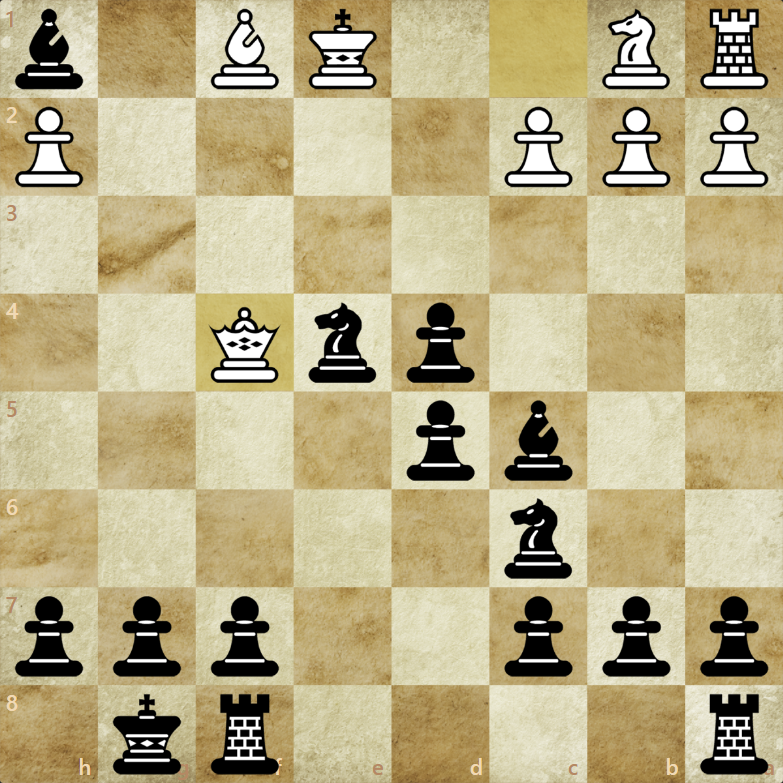B: (205, 5, 281, 94)
K: (302, 6, 378, 92)
N: (599, 9, 672, 92)
P: (10, 103, 85, 191), (505, 103, 575, 191), (601, 103, 671, 189), (701, 104, 768, 191)
Q: (208, 303, 284, 387)
R: (699, 4, 771, 92)
b: (502, 397, 575, 483)
k: (110, 692, 186, 777)
n: (10, 7, 85, 93), (504, 494, 575, 582), (310, 302, 380, 387)
p: (15, 593, 86, 679), (111, 595, 182, 681), (207, 594, 278, 680), (500, 596, 571, 682), (599, 595, 670, 681), (697, 593, 768, 679), (403, 399, 474, 485), (403, 300, 474, 386)
r: (210, 693, 285, 779), (698, 690, 770, 777)
